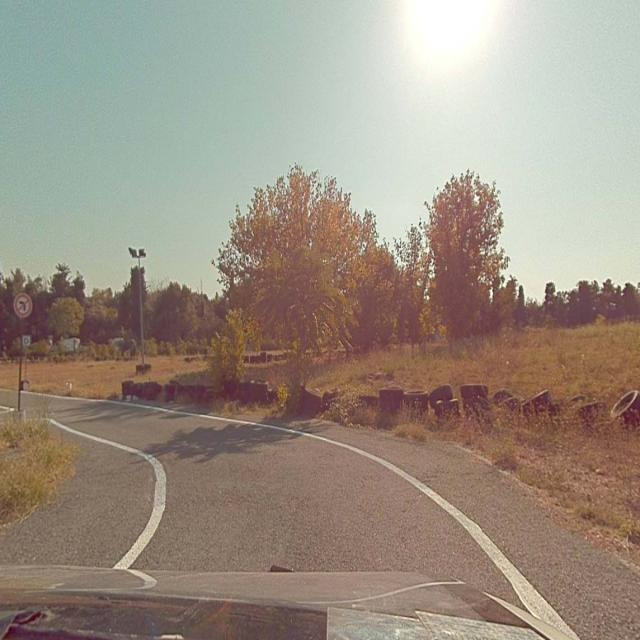soladonulmez: (15, 292, 31, 318)
